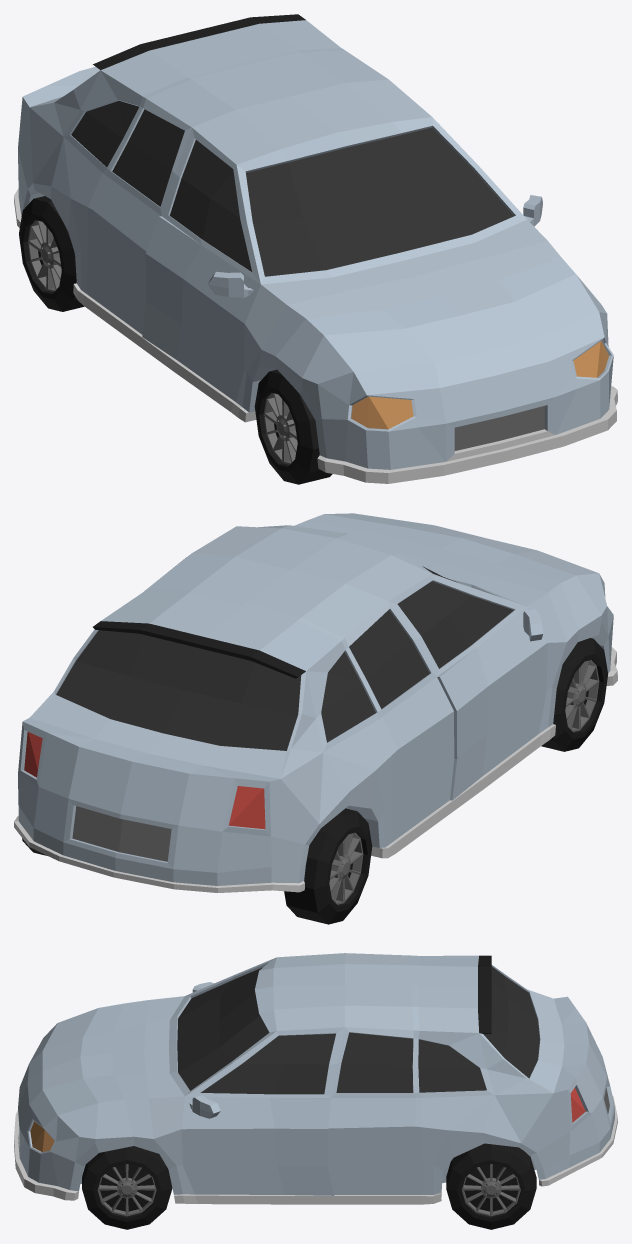
The model's file is hatchback.glb.
3 renders of one model, top to bottom at view 1: azimuth 30°, elevation 25°; view 2: azimuth 150°, elevation 25°; view 3: azimuth 270°, elevation 25°, orthographic. The views are drawn at different scales.
Parts seen in each view (by area): view 1: NormalCar2_Cube.002; view 2: NormalCar2_Cube.002; view 3: NormalCar2_Cube.002.
Part boxes in pixels (x1=…): NormalCar2_Cube.002: x1=14, y1=14, x2=617, y2=484; NormalCar2_Cube.002: x1=14, y1=513, x2=617, y2=924; NormalCar2_Cube.002: x1=14, y1=953, x2=617, y2=1229.
Bounding box in the file's own units: 1.64 × 1.15 × 3.31.
